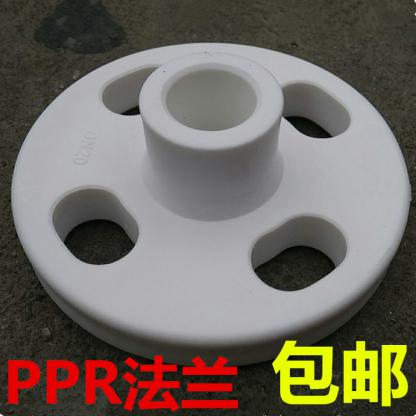FOD: (9, 36, 415, 366)
